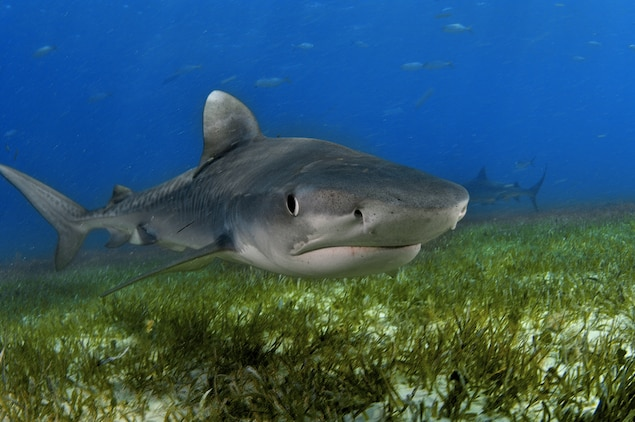shark: (1, 87, 469, 307), (455, 163, 553, 215)
